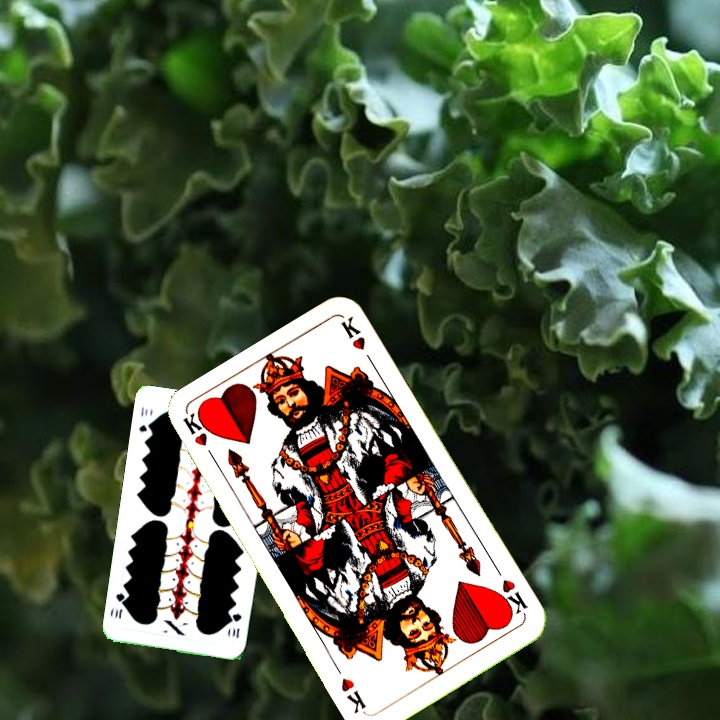G10: (135, 402, 154, 435), (228, 609, 244, 640)
HK: (179, 410, 220, 466), (493, 575, 531, 619)
